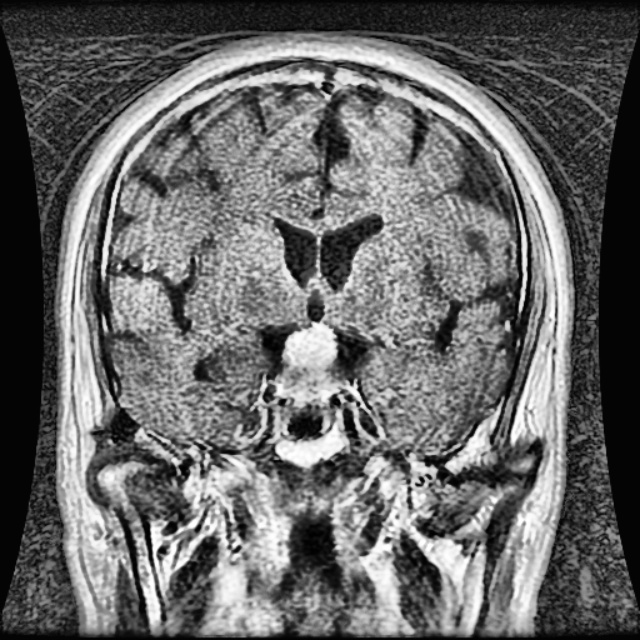Pituitary: (275, 327, 347, 407)
